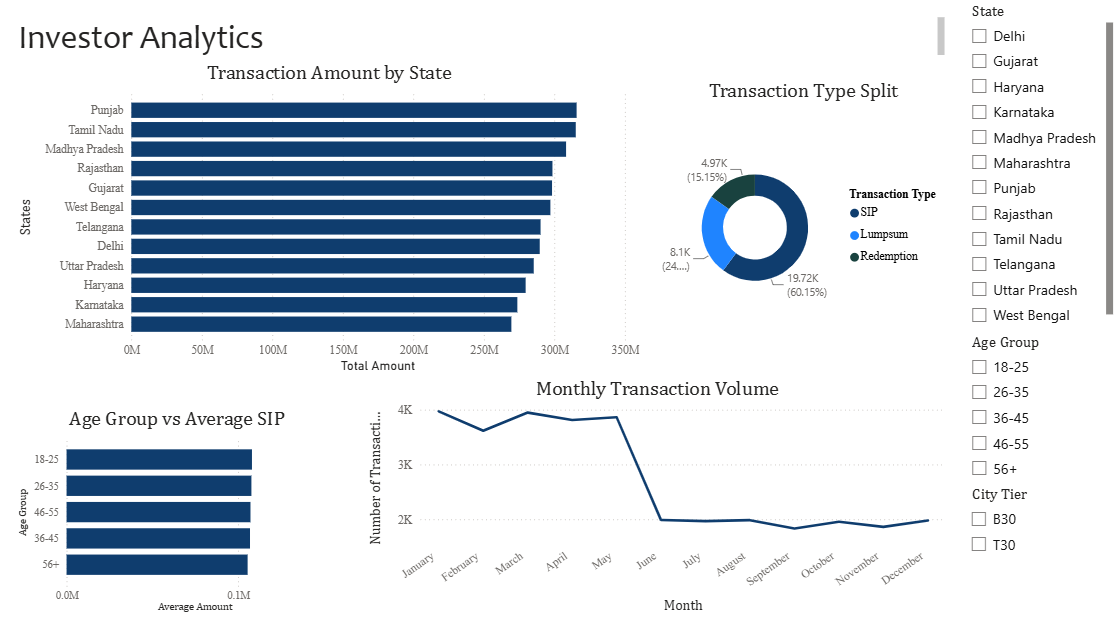

What the dashboard file says about the page in this screenshot:
{"tool":"powerbi","page":{"name":"Investor Analytics","canvas":[1280,720],"ordinal":2},"visuals":[{"type":"barChart","title":"Transaction Amount by State","fields":{"Category":["investor_transactions_cleaned.state"],"Y":["Sum(investor_transactions_cleaned.amount_inr)"]},"box":[19.2,71.4,719,362.3],"z":0},{"type":"donutChart","title":"Transaction Type Split","fields":{"Y":["CountNonNull(investor_transactions_cleaned.transaction_type)"],"Category":["investor_transactions_cleaned.transaction_type"]},"box":[753.3,94.7,334.8,314.2],"z":1000},{"type":"clusteredBarChart","title":"Age Group vs Average SIP","fields":{"Category":["investor_transactions_cleaned.age_group"],"Y":["Avg(investor_transactions_cleaned.amount_inr)"]},"box":[19.2,467.9,371.9,238.8],"z":2000},{"type":"lineChart","title":"Monthly Transaction Volume","fields":{"Category":["investor_transactions_cleaned.transaction_date.Variation.Date Hierarchy.Month"],"Y":["CountNonNull(investor_transactions_cleaned.transaction_type)"]},"box":[418.5,433.6,669.6,273.1],"z":3000},{"type":"slicer","fields":{"Values":["investor_transactions_cleaned.age_group"]},"box":[1100.5,378.7,179.8,177],"z":4000},{"type":"slicer","fields":{"Values":["investor_transactions_cleaned.state"]},"box":[1100.5,0,179.8,378.7],"z":5000},{"type":"slicer","fields":{"Values":["investor_transactions_cleaned.city_tier"]},"box":[1100.5,553,179.8,91.9],"z":6000},{"type":"textbox","box":[18.6,17.1,1068.6,54.3],"z":6001}]}

Visuals, with their boxes in screenshot pixels (x1, y1, x2, y2), scaled from the page's 1280x720 canvas onto the 1116x623 screenshot:
"Transaction Amount by State" barChart: box(17, 62, 644, 375)
"Transaction Type Split" donutChart: box(657, 82, 949, 354)
"Age Group vs Average SIP" clusteredBarChart: box(17, 405, 341, 611)
"Monthly Transaction Volume" lineChart: box(365, 375, 949, 611)
slicer - investor_transactions_cleaned.age_group: box(959, 328, 1115, 481)
slicer - investor_transactions_cleaned.state: box(959, 0, 1115, 328)
slicer - investor_transactions_cleaned.city_tier: box(959, 478, 1115, 558)
textbox: box(16, 15, 948, 62)
